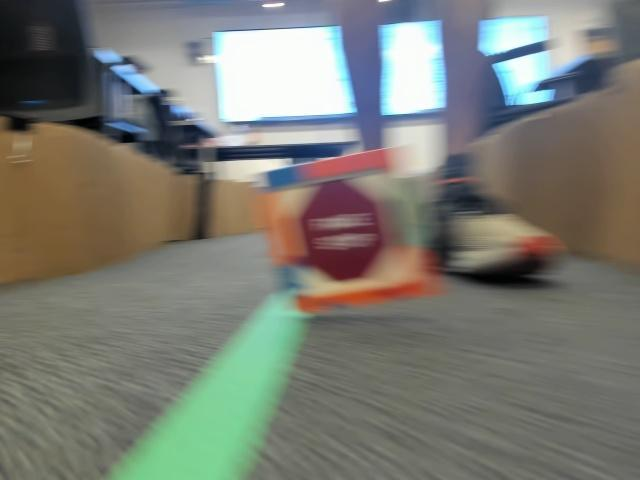Fake Stop: (292, 187, 384, 289)
